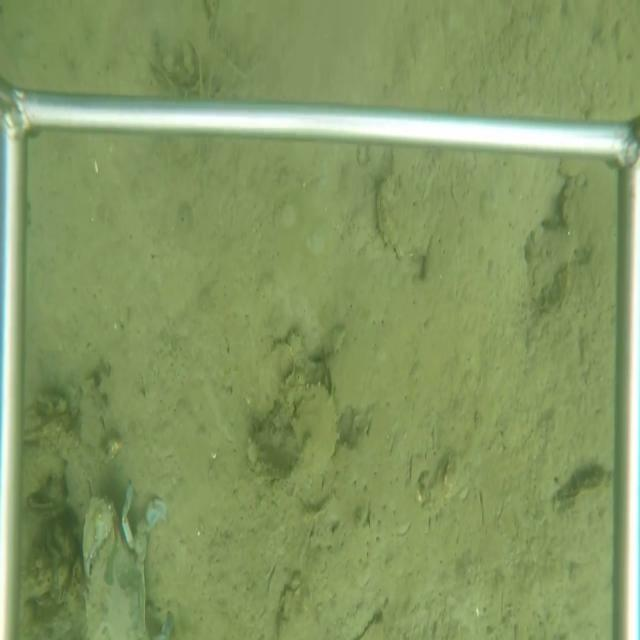Oyster-Closed: (547, 468, 611, 514)
Oyster-Indeterminate: (373, 146, 453, 265), (250, 377, 340, 478)
